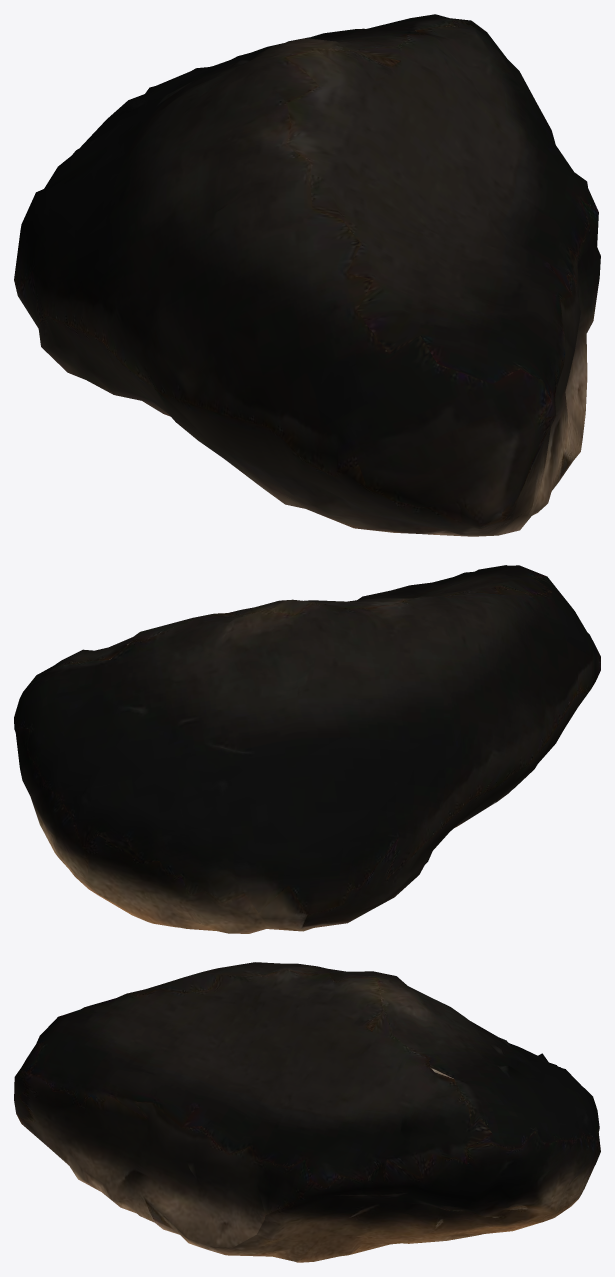
File: RockA-transformed.glb
3 views of the same model, one above another, from view 1: azimuth 30°, elevation 25°; view 2: azimuth 150°, elevation 25°; view 3: azimuth 270°, elevation 25° (orthographic). The views are drawn at different scales.
Visible parts, largest first — view 1: namaqualand_boulders_01_a_LOD3; view 2: namaqualand_boulders_01_a_LOD3; view 3: namaqualand_boulders_01_a_LOD3.
Boxes of the visible parts, x1=… form: namaqualand_boulders_01_a_LOD3: x1=14, y1=14, x2=600, y2=536; namaqualand_boulders_01_a_LOD3: x1=14, y1=565, x2=600, y2=933; namaqualand_boulders_01_a_LOD3: x1=14, y1=962, x2=600, y2=1262.
Size of the model in its own units: 0.3622 by 0.2514 by 0.551.
Materials: 1 (1 with a texture image).
